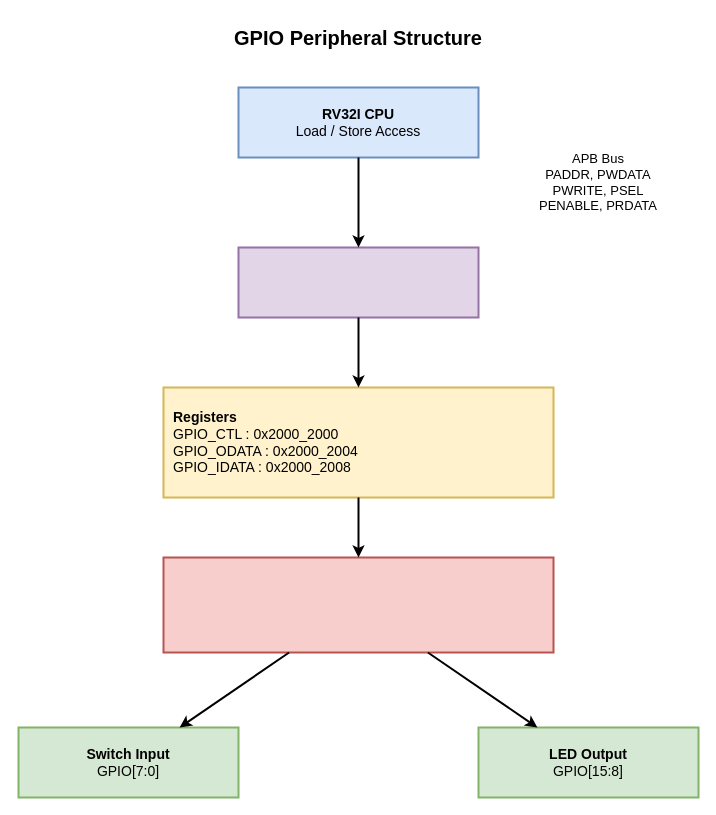
The diagram is 716 pixels wide and 815 high, and some of its shapes have lost their labels. The centre of each missing label's shape, as x and y in pixels:
gpio module if ctl[i] = 1 -> output mode if ctl[i] = 0 -> input mode: the point at 358,604
GPIO Peripheral APB Slave: the point at 358,282
